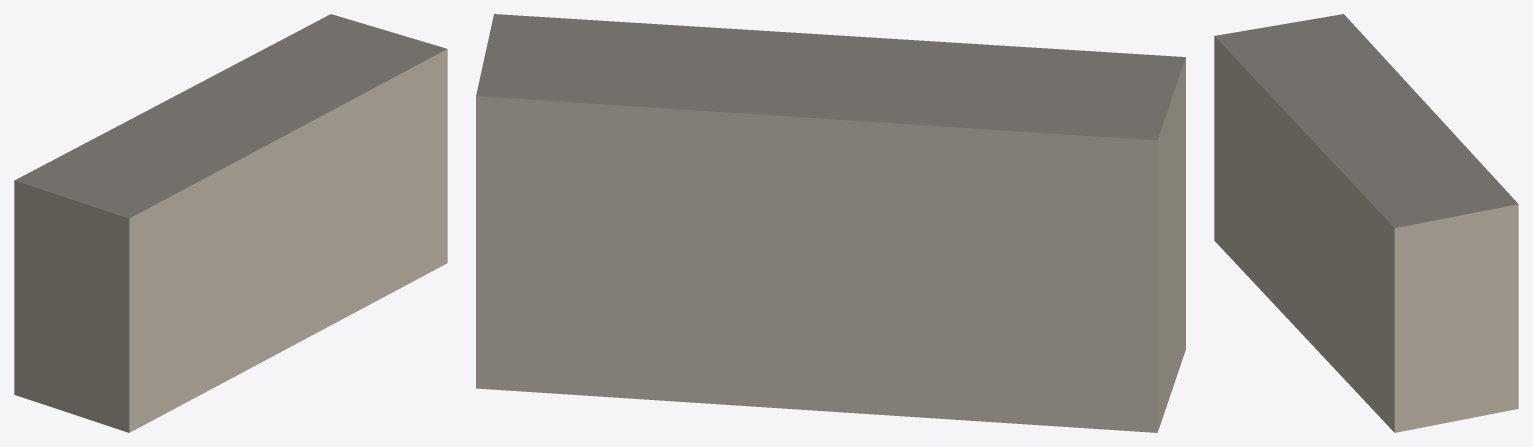
3 views of the same model, side by side, from view 1: azimuth 30°, elevation 25°; view 2: azimuth 150°, elevation 25°; view 3: azimuth 270°, elevation 25° (orthographic). The views are drawn at different scales.
Visible parts, largest first — view 1: HP-w1196823093; view 2: HP-w1196823093; view 3: HP-w1196823093.
Part boxes in pixels (bbox=[...]): HP-w1196823093: bbox=[14, 14, 447, 432]; HP-w1196823093: bbox=[476, 14, 1185, 432]; HP-w1196823093: bbox=[1214, 14, 1518, 432].
Size of the model in its own units: 40.4 by 18 by 24.25.
